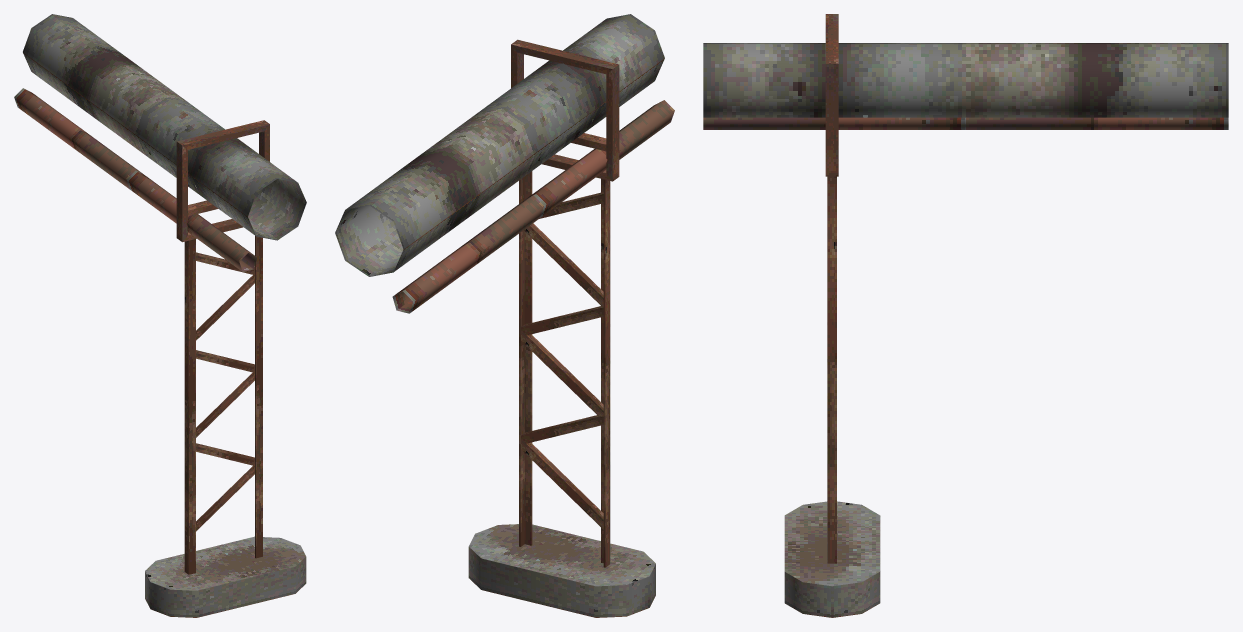
The model's file is pipes_horizontal_short.glb.
3 renders of one model, left to right at view 1: azimuth 30°, elevation 25°; view 2: azimuth 150°, elevation 25°; view 3: azimuth 270°, elevation 25°, orthographic. The views are drawn at different scales.
Parts seen in each view (by area): view 1: Pipes_horizontal_short; view 2: Pipes_horizontal_short; view 3: Pipes_horizontal_short.
Boxes of the visible parts, x1,y1,x2,y2 form: Pipes_horizontal_short: (14,14,306,617); Pipes_horizontal_short: (335,14,674,617); Pipes_horizontal_short: (703,14,1228,617).
Size of the model in its own units: 1.77 by 5.15 by 4.58.
1 material, 1 textured.
